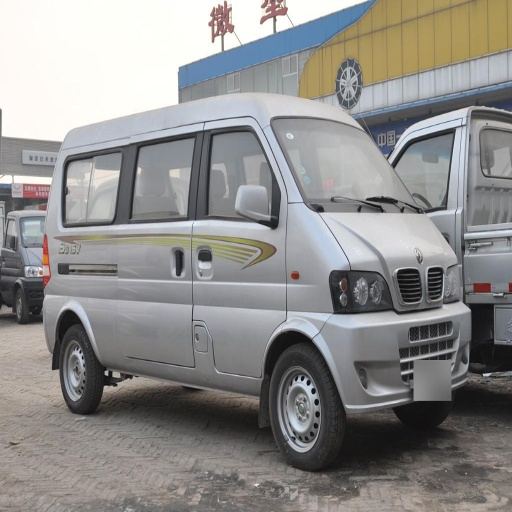back_right_door: (60, 128, 203, 359)
front_bumper: (324, 305, 468, 421)
front_glass: (272, 118, 417, 211)
front_right_door: (191, 121, 286, 322)
front_right_light: (331, 270, 386, 311)
trunk: (207, 315, 258, 374)
